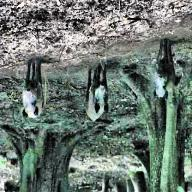boar: (78, 51, 126, 124), (16, 49, 56, 126), (148, 30, 190, 101)
